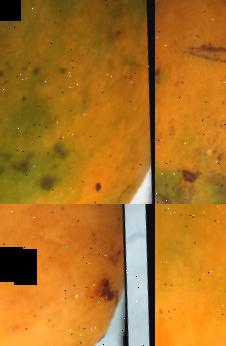PartiallyRipe: (0, 0, 155, 204), (155, 204, 226, 346)
Ripe: (0, 204, 142, 346), (155, 0, 226, 204)
